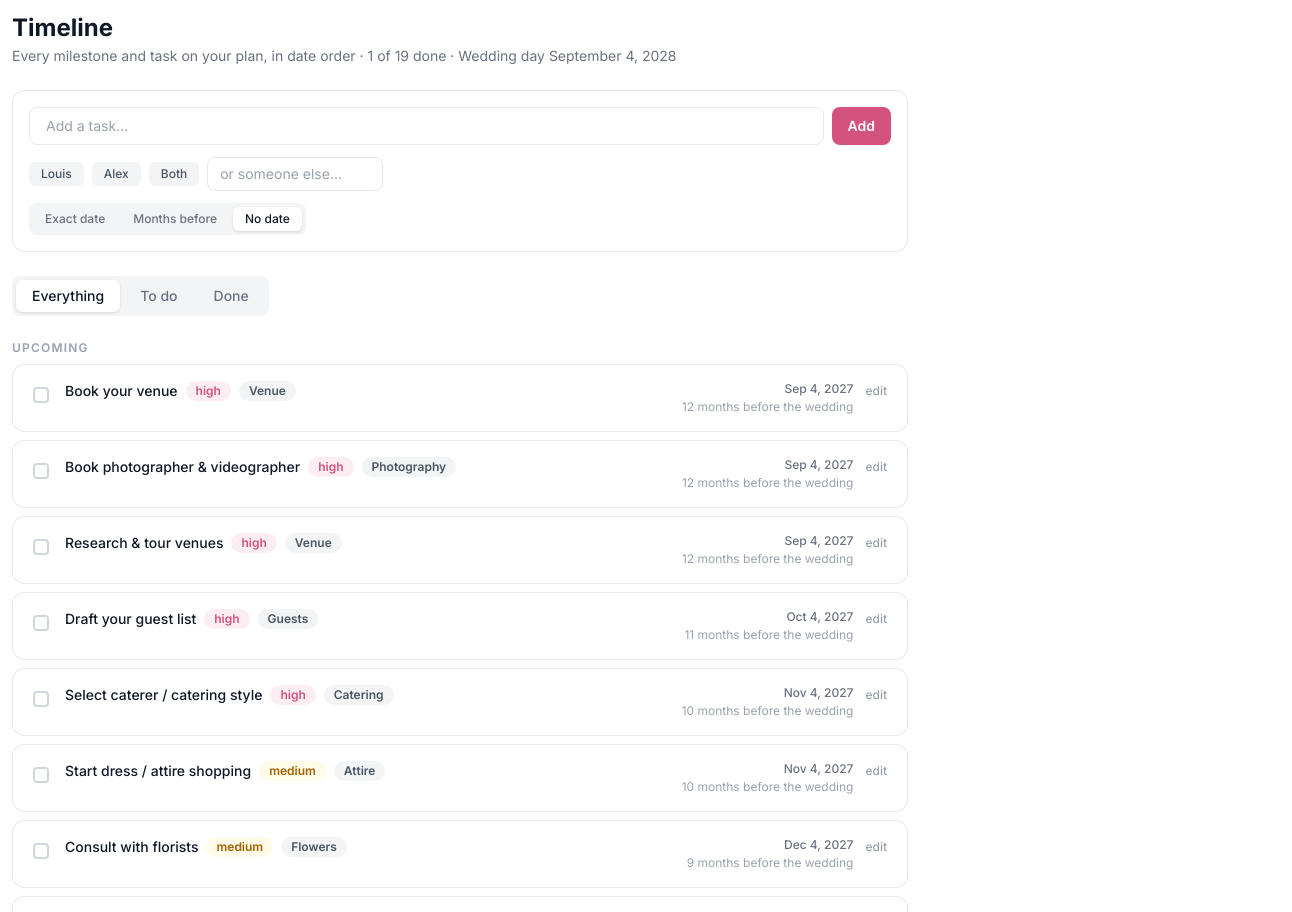
Test case: Timeline — editing the task itself › renames a task and keeps it a single row
Click the button named "Edit \"Book your venue\"" at (876, 391), box [865,383,887,399]
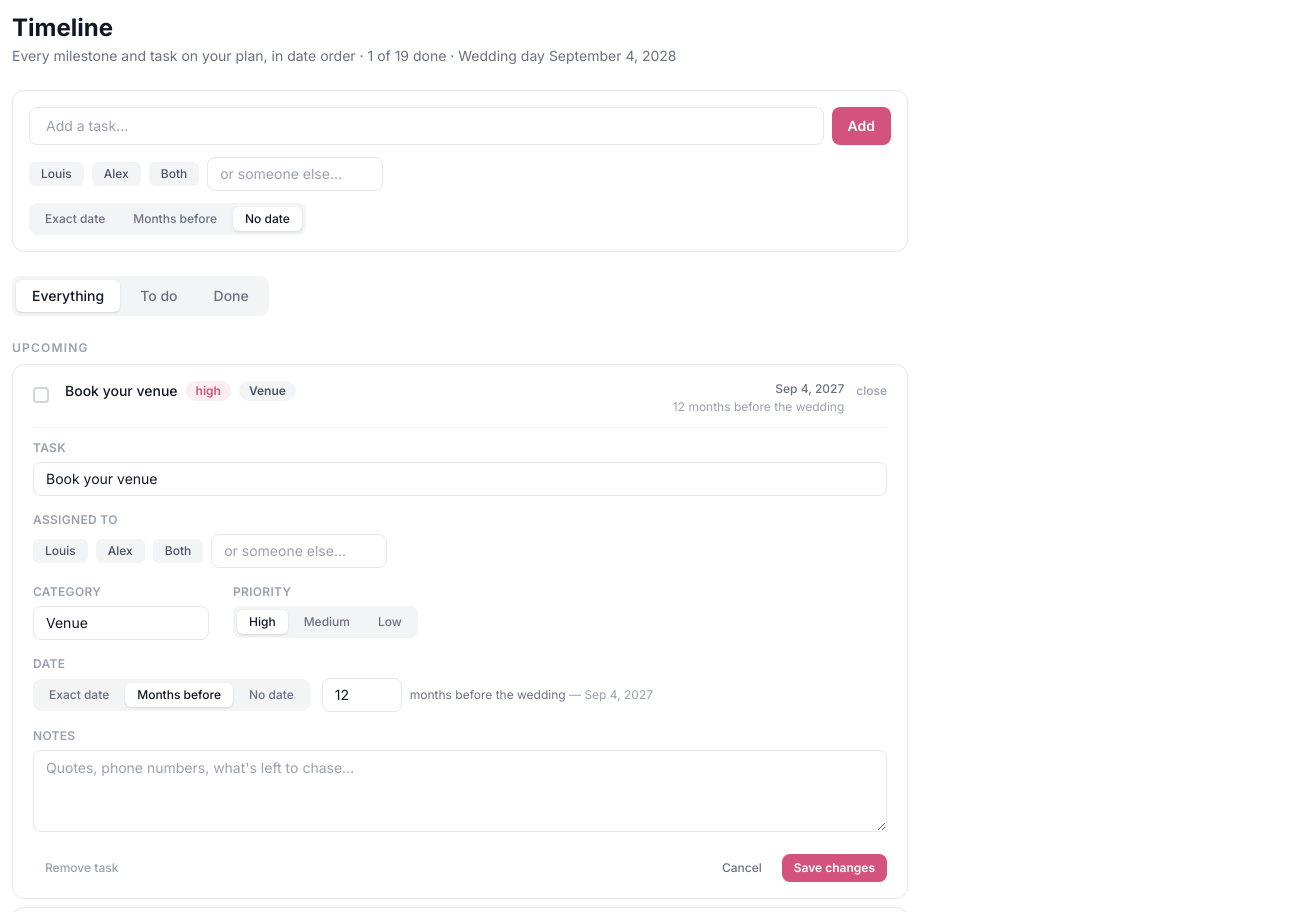
Replace the text in the field named "Book your venue title" with "Book the barn" at (460, 479), box [33,462,887,496]
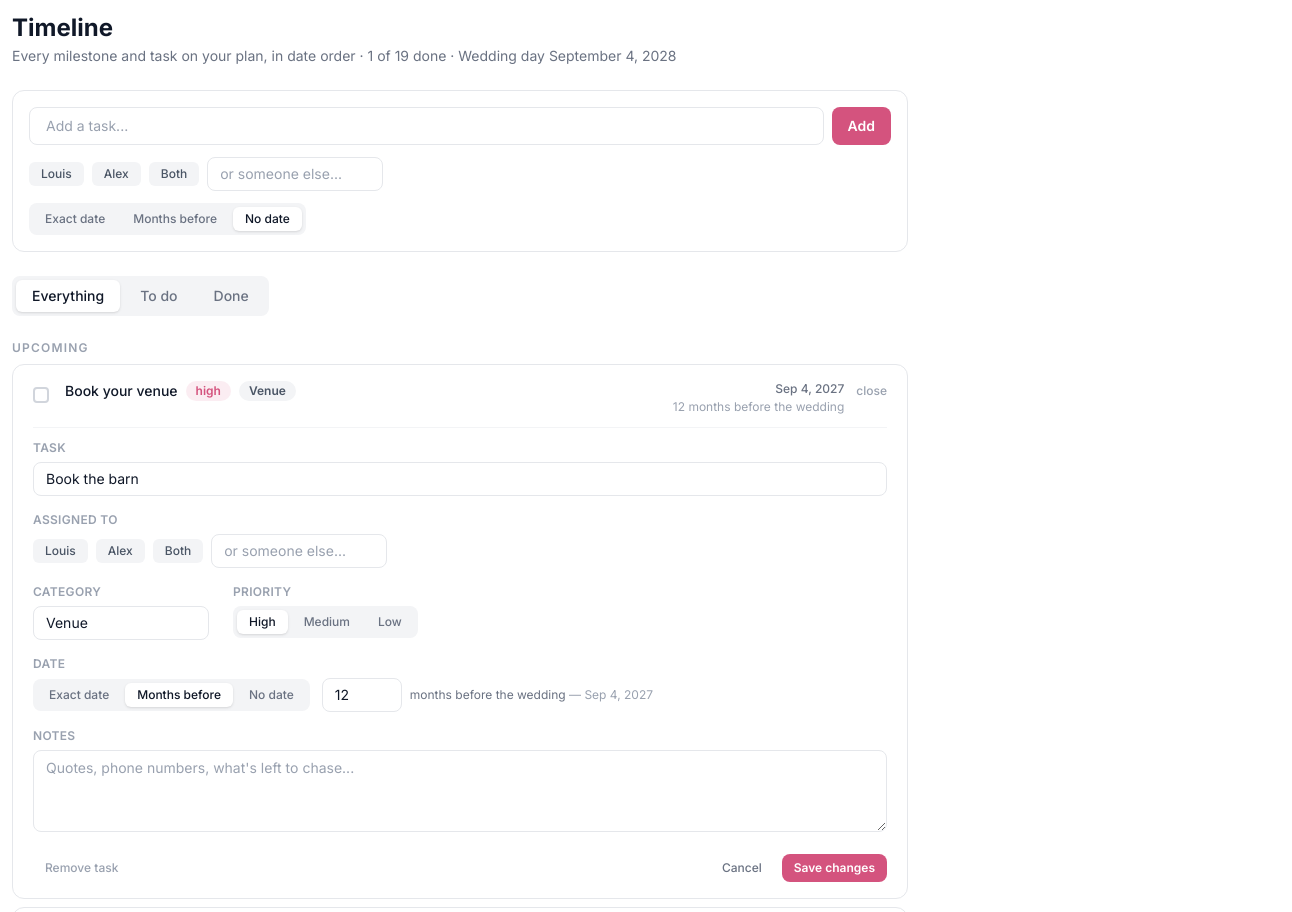
Click the button "Save changes" at (834, 868), box [782,854,887,882]
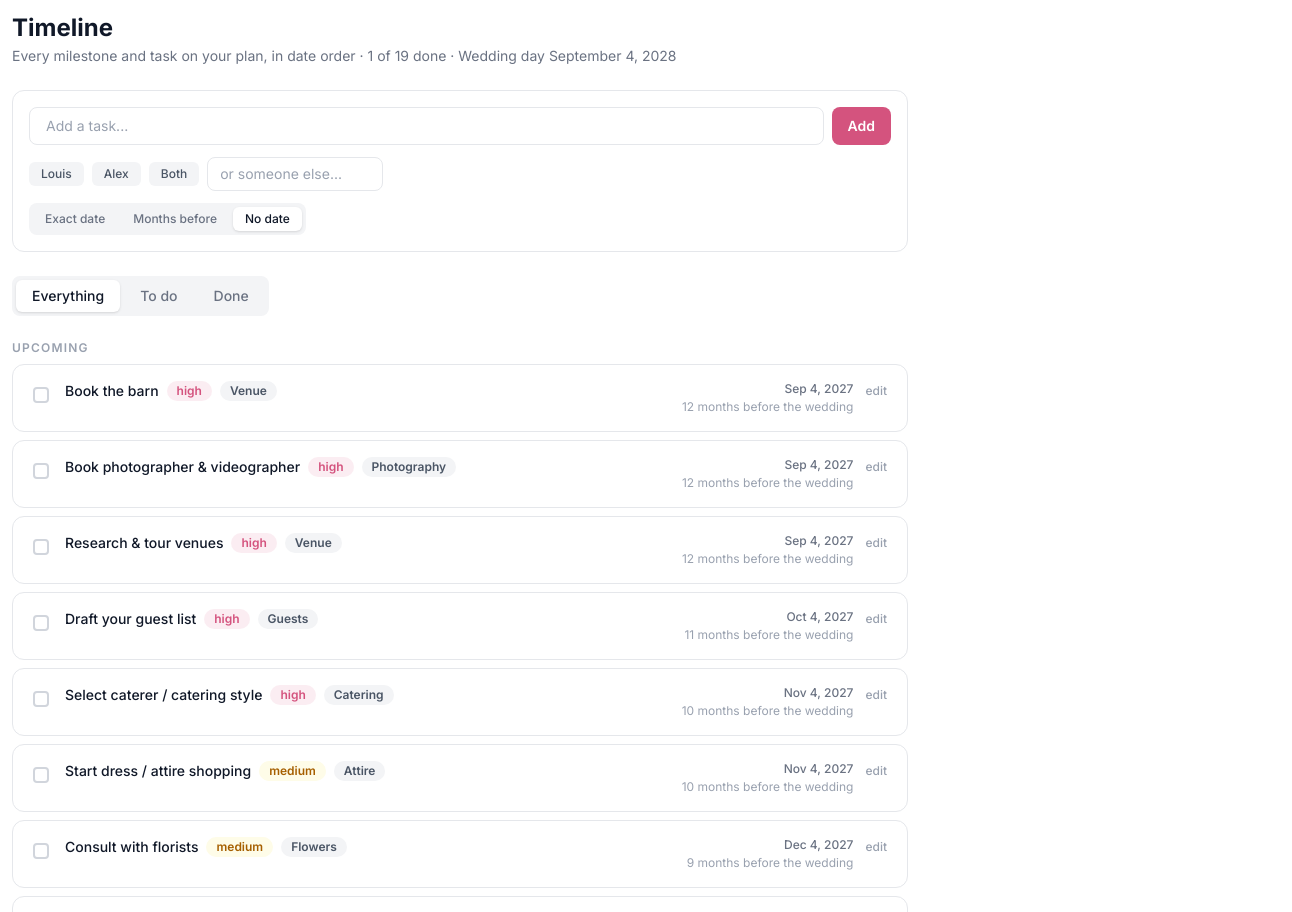
Now the text "Book the barn" is shown, box [65,381,159,401]
Now the text "Book your venue" is gone
